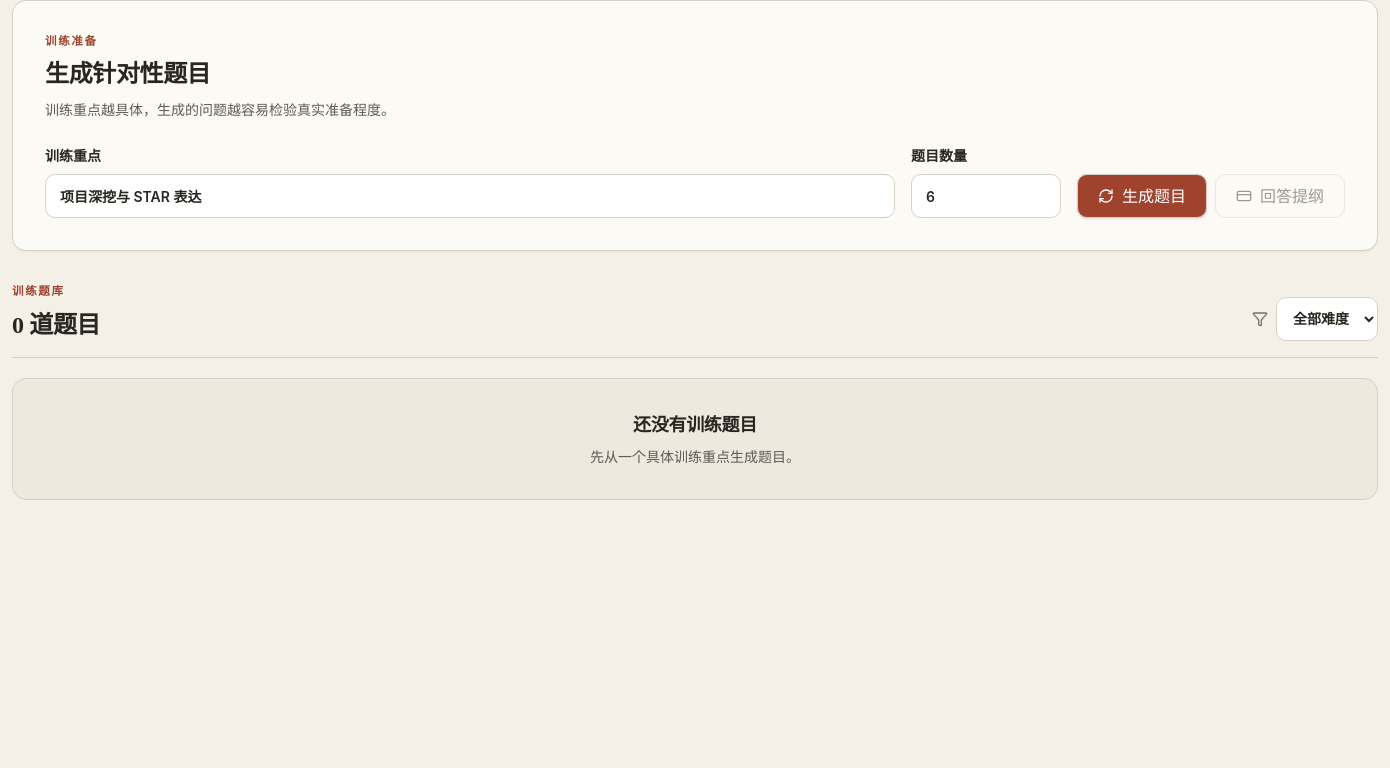
Test: QuestionsPage › shows a fallback notice when generated questions use local examples
The width and height of the screenshot is (1390, 768).
Click the button "生成题目" at (1142, 196), box [1077, 174, 1207, 218]
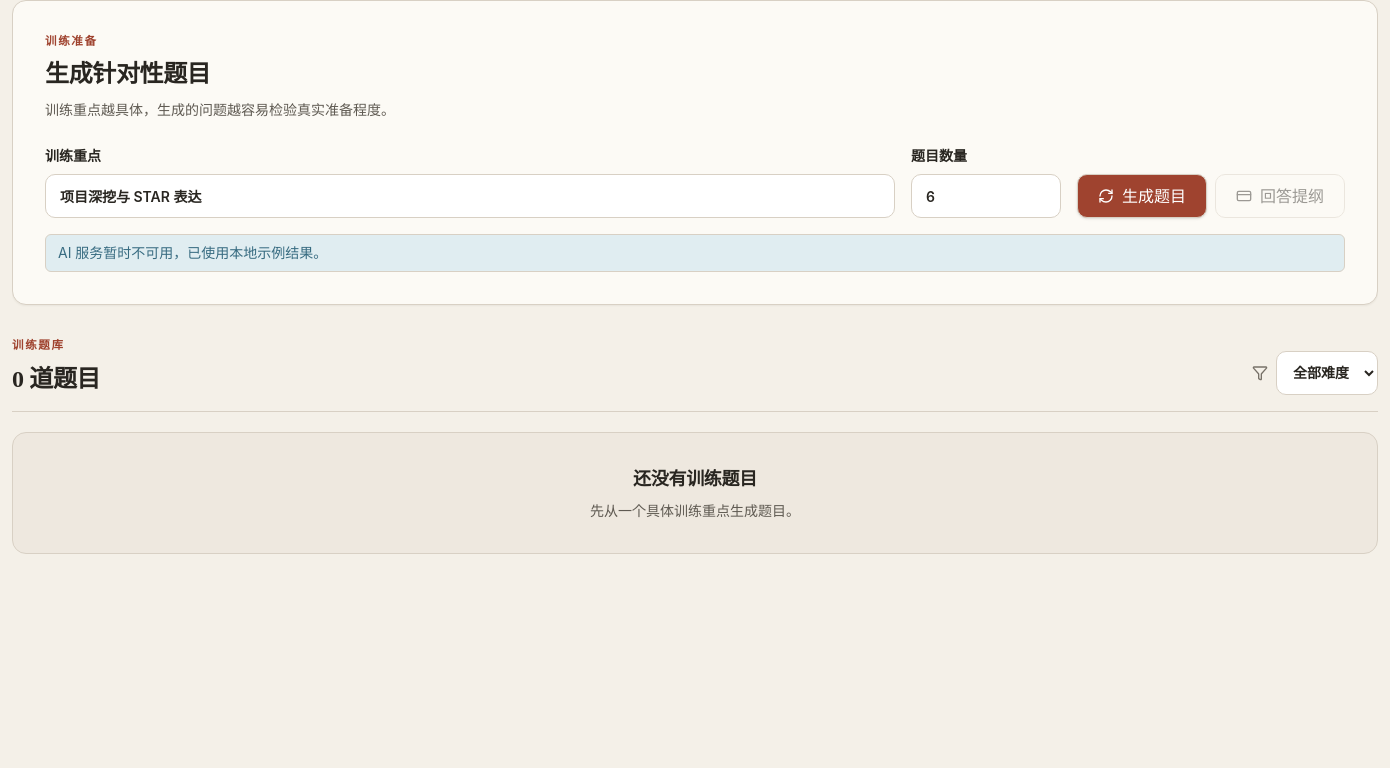
Expected: the text "AI 服务暂时不可用，已使用本地示例结果。" is shown, [45, 234, 1345, 272]
